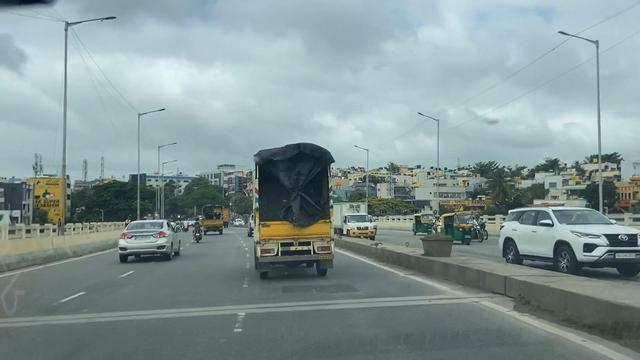HMV: (249, 141, 339, 280)
